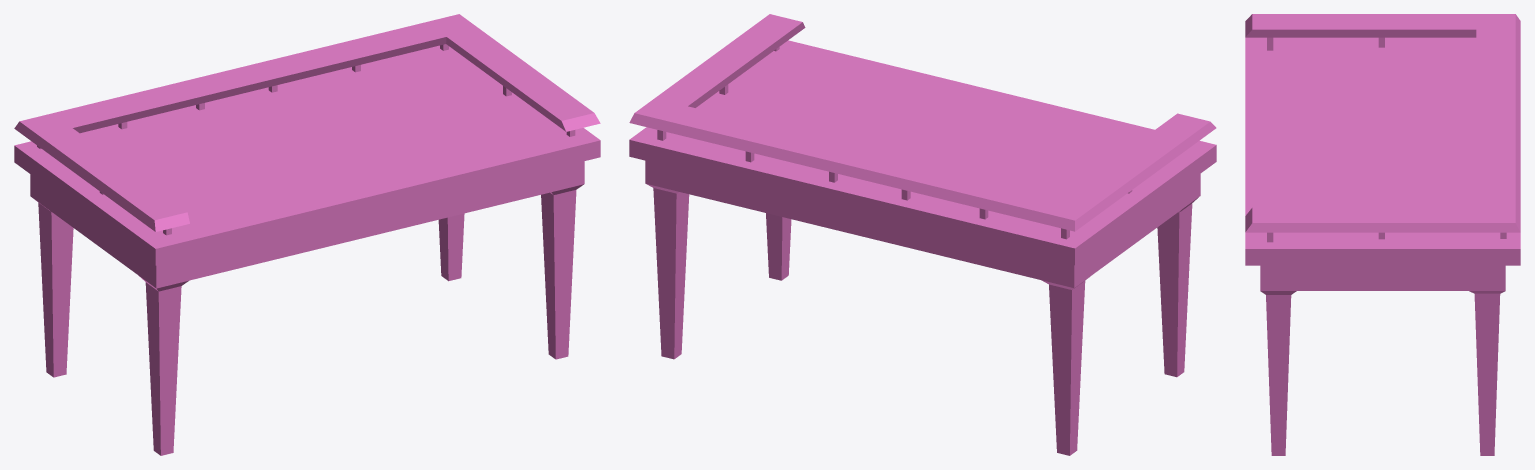
Rendered from Escrivaninha3Low.fbx.
3 renders of one model, left to right at view 1: azimuth 30°, elevation 25°; view 2: azimuth 150°, elevation 25°; view 3: azimuth 270°, elevation 25°, orthographic. The views are drawn at different scales.
Visible parts, largest first — view 1: Cube.055; view 2: Cube.055; view 3: Cube.055.
Part boxes in pixels (x1,y1,x2,y2): Cube.055: (14,14,600,455); Cube.055: (629,14,1216,455); Cube.055: (1245,14,1520,455).
Bounding box in the file's own units: 171 × 90.61 × 94.07.
